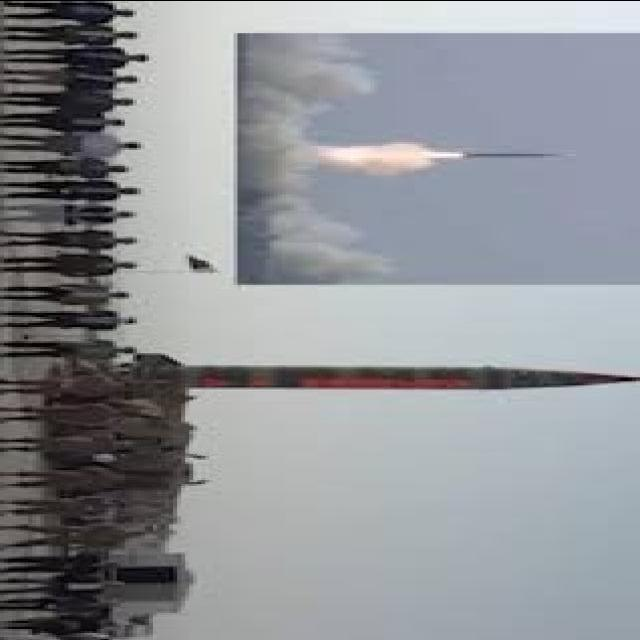Missile: (183, 363, 638, 390), (455, 149, 575, 160)
